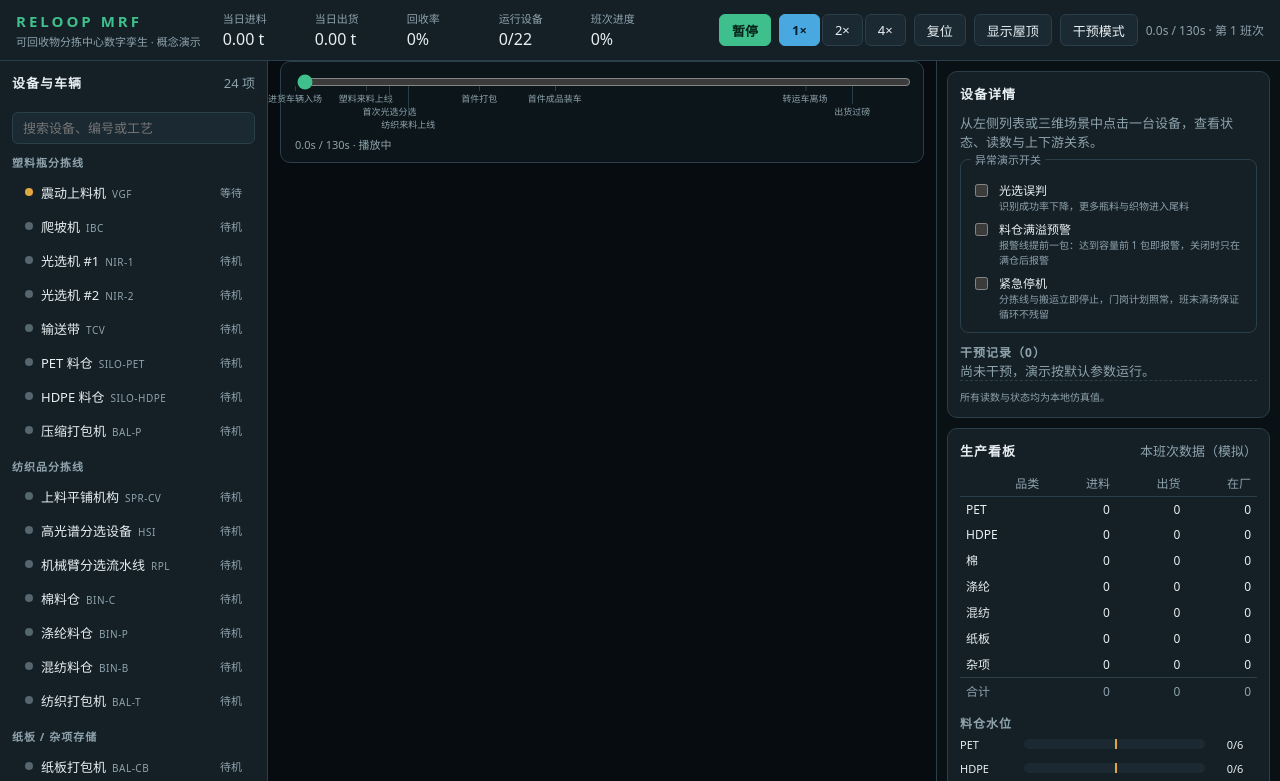
Test: 整机联动 › 空格键播放/暂停，Esc 取消选中
Click the button "暂停" at {"x": 745, "y": 30}, box [719,14,771,46]
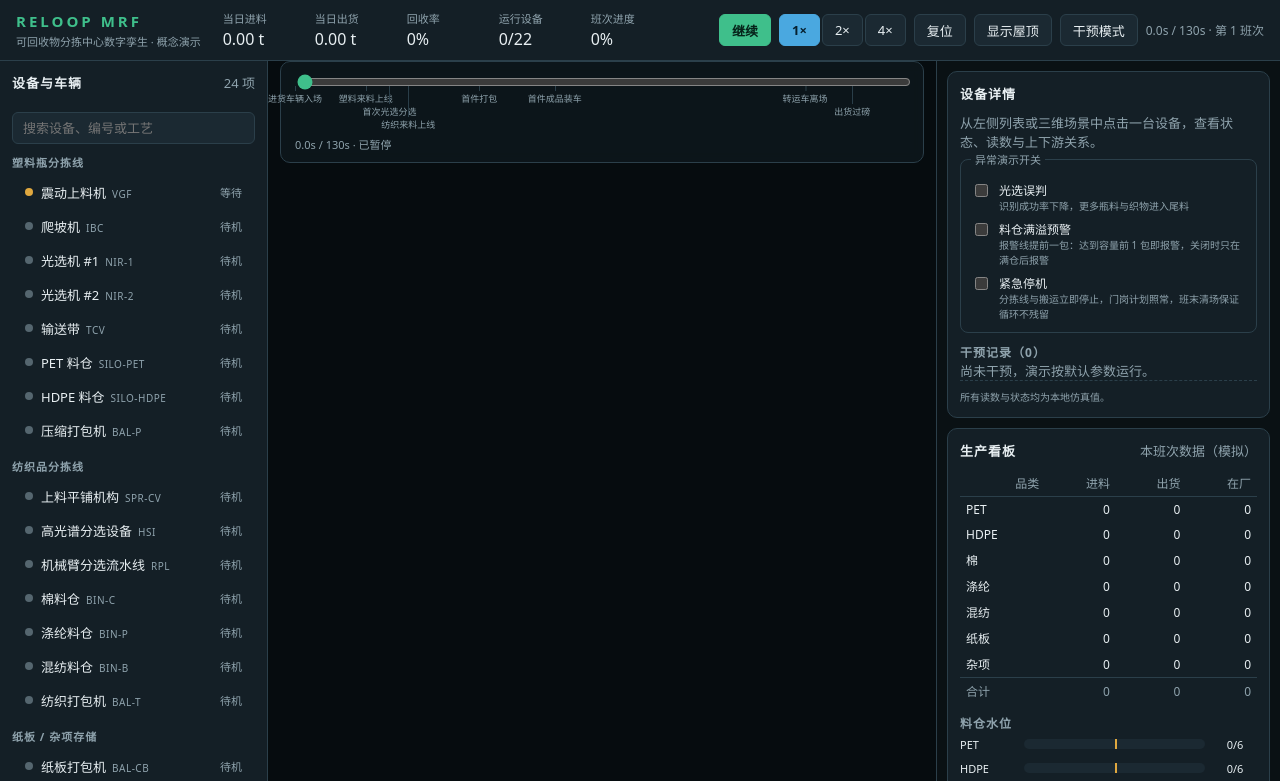
Result: the button "继续" is shown at [719,14,771,46]
Press Space
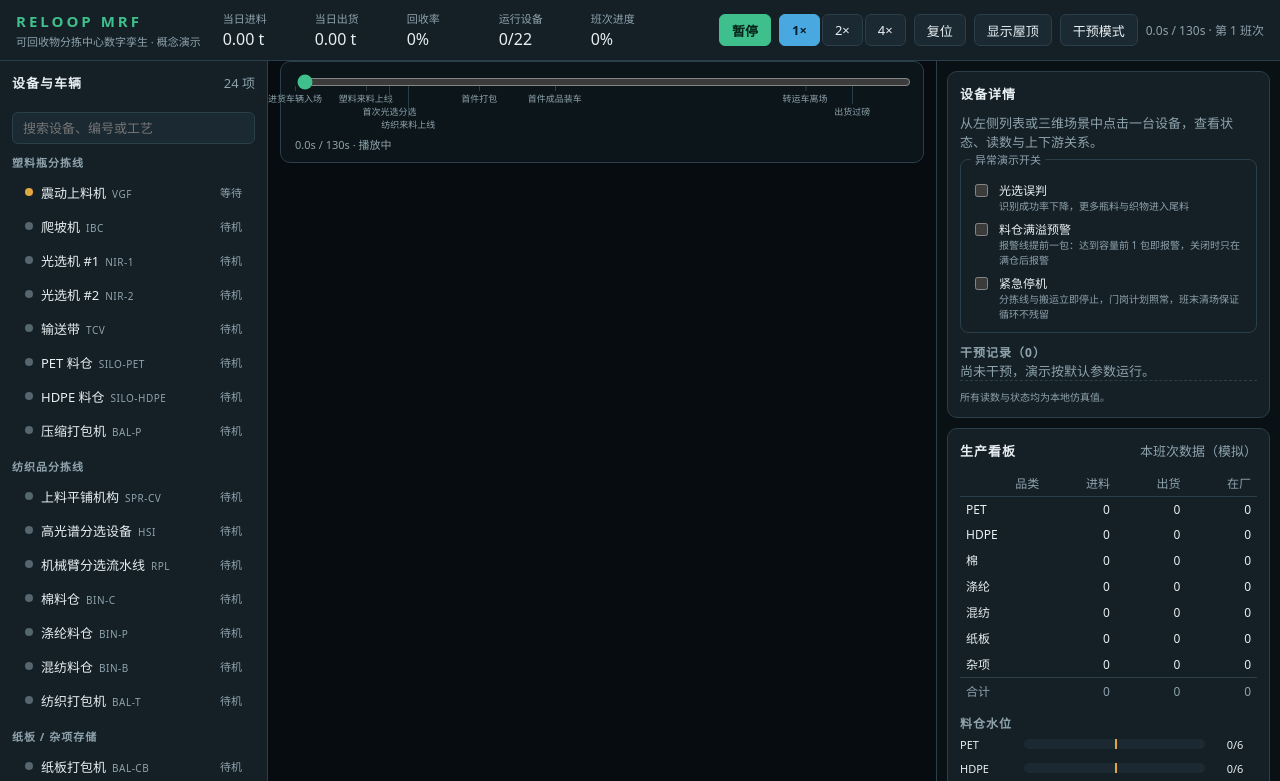
Result: the button "暂停" is shown at [719,14,771,46]
Press Space
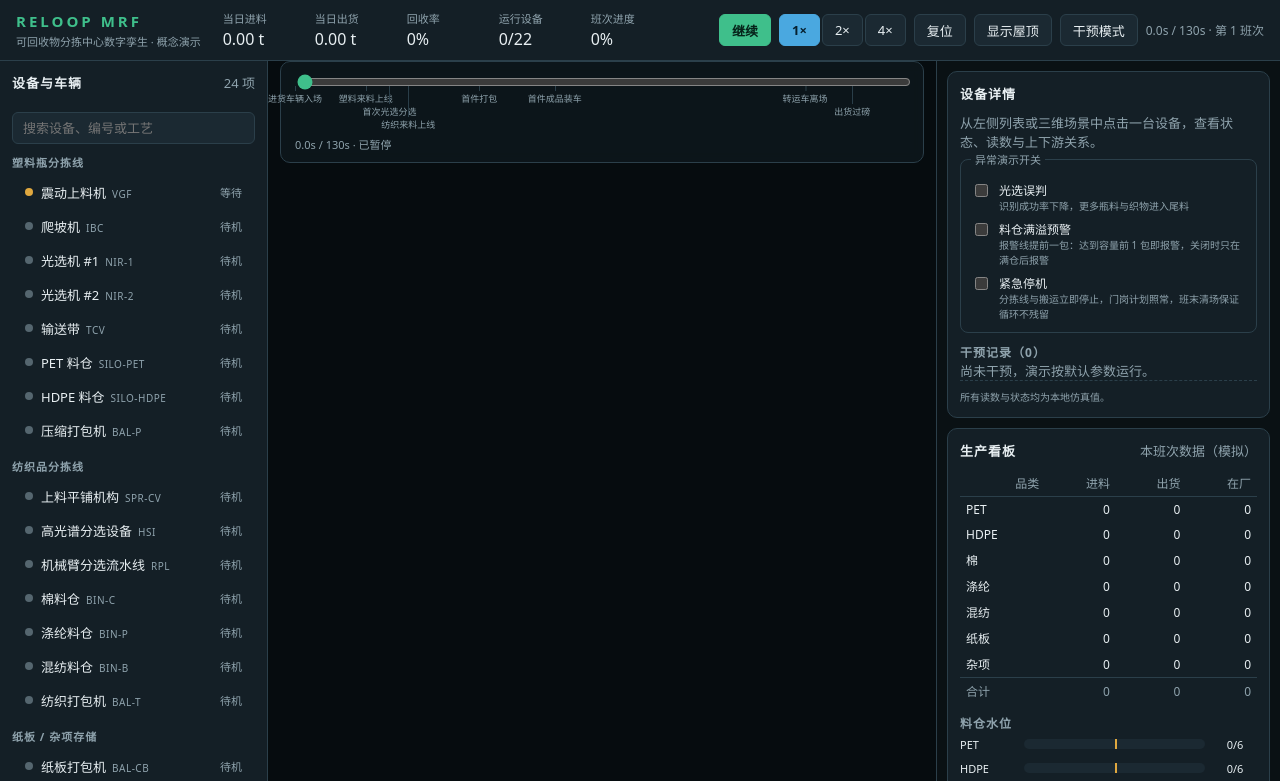
Result: the button "继续" is shown at [719,14,771,46]
Click the button "机械臂分选流水线 RPL 待机" at {"x": 134, "y": 564}, box [12,548,255,580]
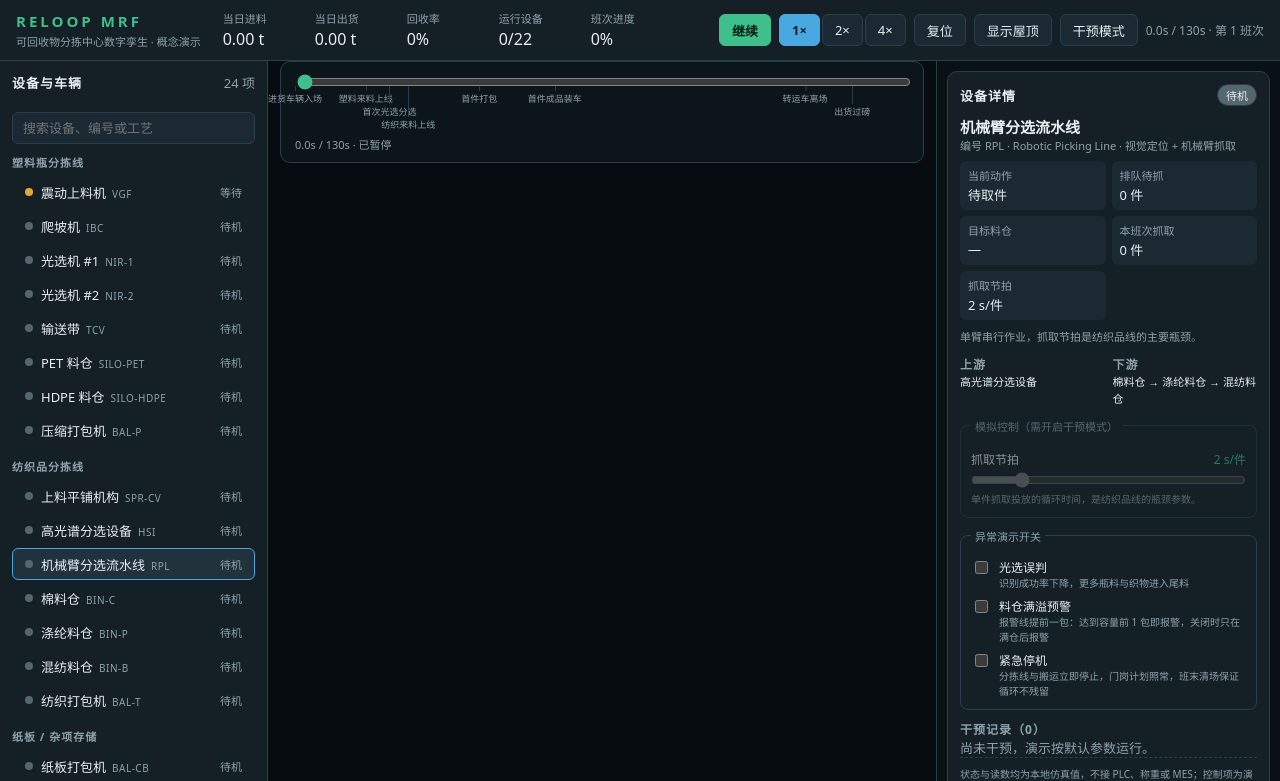
Result: the heading "机械臂分选流水线" is shown at [960,117,1080,137]
Press Escape
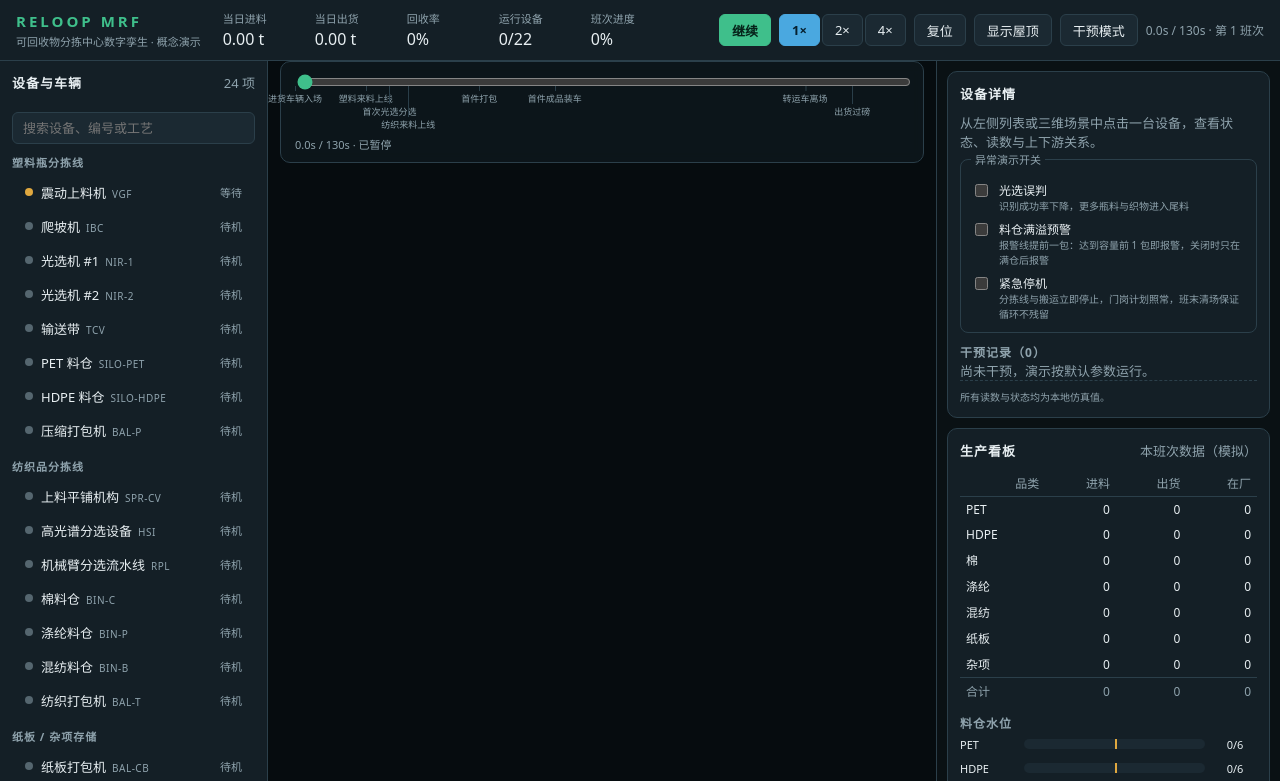
Result: the text "从左侧列表或三维场景中点击一台设备，查看状态、读数与上下游关系。" is shown at [960,113,1257,151]
